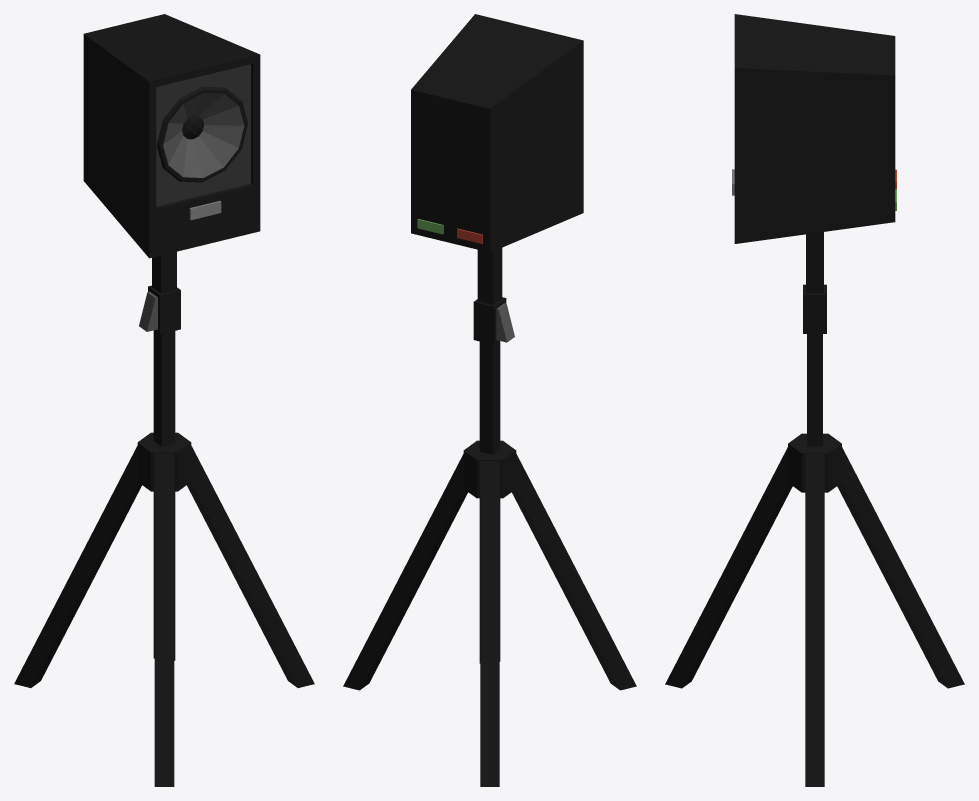
Rendered from Int_Speakers01_2.fbx.
3 views of the same model, side by side, from view 1: azimuth 30°, elevation 25°; view 2: azimuth 150°, elevation 25°; view 3: azimuth 270°, elevation 25° (orthographic). The views are drawn at different scales.
Parts seen in each view (by area): view 1: Int_Speakers01_2; view 2: Int_Speakers01_2; view 3: Int_Speakers01_2.
Boxes of the visible parts, bbox=[...] form: Int_Speakers01_2: bbox=[14, 14, 314, 786]; Int_Speakers01_2: bbox=[343, 14, 636, 786]; Int_Speakers01_2: bbox=[665, 14, 964, 786].
Size of what is drawn, in the model's own units: 62.87 by 72.6 by 180.
